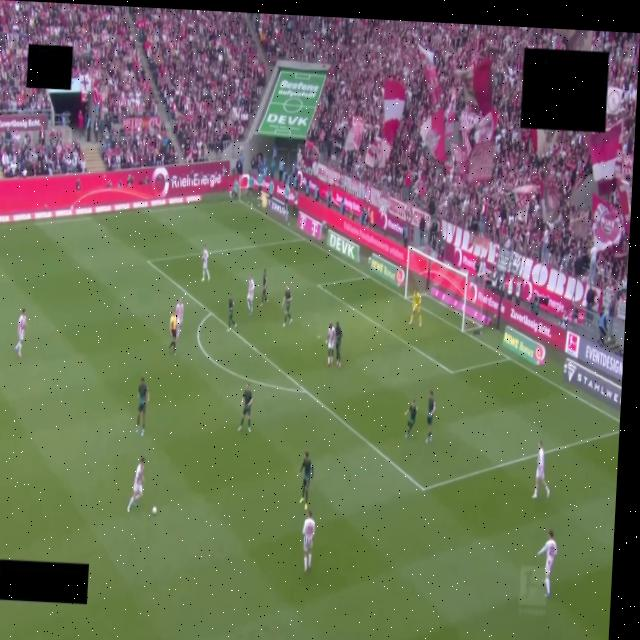ball: (152, 506, 156, 514)
player: (538, 530, 557, 597), (128, 458, 145, 512), (533, 442, 549, 498), (299, 452, 313, 510), (136, 377, 149, 436), (303, 510, 315, 571), (238, 383, 252, 432), (15, 309, 26, 357), (426, 391, 435, 442), (405, 399, 417, 437), (409, 289, 421, 326), (326, 323, 336, 366), (282, 287, 291, 327), (227, 294, 236, 332), (335, 322, 342, 369), (175, 299, 183, 338), (247, 276, 254, 315), (261, 270, 268, 306), (202, 246, 209, 281)
referee: (168, 311, 177, 356)
